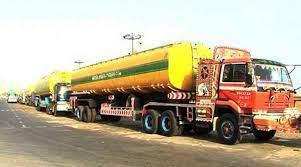Truck: (71, 41, 301, 144), (33, 66, 72, 118)
